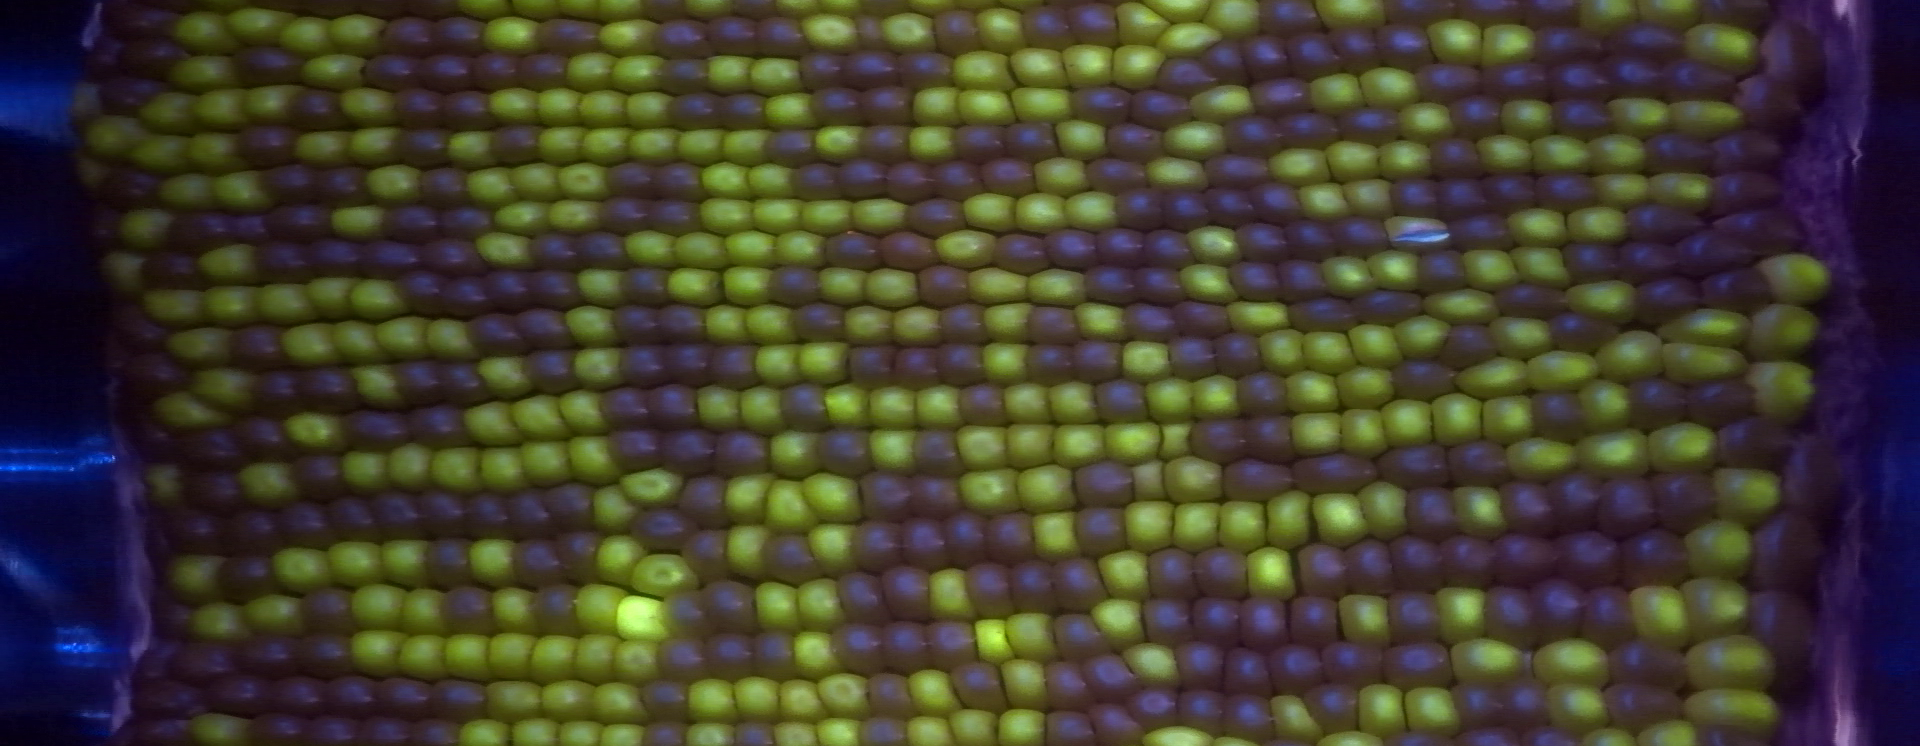fluorescent: (1689, 639, 1773, 688), (1662, 307, 1755, 350), (1685, 688, 1777, 731), (1686, 575, 1752, 633), (1309, 489, 1371, 550), (1749, 300, 1821, 353), (1681, 20, 1755, 71), (1747, 356, 1812, 413), (1709, 464, 1777, 518), (1453, 637, 1524, 687), (1632, 581, 1689, 642), (1547, 680, 1611, 733), (1665, 343, 1746, 385), (959, 468, 1029, 514), (1571, 278, 1641, 325), (1580, 431, 1651, 477), (1598, 332, 1665, 379), (1691, 522, 1755, 571), (189, 367, 263, 409), (1652, 420, 1717, 468), (1095, 549, 1153, 601), (1438, 582, 1487, 644), (1536, 637, 1607, 680), (803, 469, 862, 521), (1527, 345, 1596, 390), (1429, 391, 1482, 447), (168, 326, 230, 372), (1269, 690, 1322, 744), (1125, 499, 1176, 556), (1360, 684, 1409, 742), (631, 552, 699, 594), (572, 581, 624, 635), (1483, 393, 1536, 447), (1504, 440, 1581, 477), (1096, 593, 1146, 649), (1338, 404, 1389, 461), (751, 576, 800, 633), (1430, 21, 1489, 69), (1363, 481, 1409, 541), (523, 436, 576, 489), (348, 579, 403, 630), (800, 577, 849, 633), (245, 593, 307, 637), (1671, 97, 1738, 138), (1455, 480, 1501, 539), (467, 537, 518, 589), (795, 339, 852, 386), (1764, 256, 1831, 296), (1164, 119, 1228, 160), (1104, 423, 1164, 467), (566, 434, 616, 486), (765, 477, 816, 529), (824, 385, 874, 437), (1213, 500, 1266, 550), (1338, 590, 1389, 643), (1030, 510, 1079, 563), (1404, 688, 1458, 737), (256, 279, 313, 325), (1018, 465, 1075, 511), (1455, 356, 1521, 396), (227, 5, 290, 45), (118, 201, 171, 249), (959, 423, 1007, 477), (1249, 548, 1297, 601), (156, 169, 216, 212), (271, 546, 331, 589), (298, 54, 365, 92), (156, 390, 220, 429), (1114, 39, 1164, 89), (962, 194, 1021, 236), (1161, 461, 1220, 503), (1382, 399, 1434, 448), (1582, 380, 1631, 431), (591, 481, 639, 534), (1517, 244, 1571, 290), (1176, 497, 1217, 557), (1651, 169, 1711, 211), (173, 50, 236, 89), (934, 229, 996, 269), (190, 88, 247, 131), (1003, 653, 1046, 710), (1505, 209, 1570, 247), (617, 594, 666, 644), (350, 628, 400, 677), (465, 160, 516, 209), (479, 443, 527, 495), (738, 385, 785, 437), (1397, 314, 1450, 360), (955, 86, 1018, 125), (1284, 372, 1343, 414), (380, 535, 425, 589), (138, 86, 193, 130), (213, 165, 268, 209), (280, 320, 337, 363), (778, 674, 825, 724), (398, 636, 449, 682), (328, 540, 381, 586), (909, 668, 961, 713), (1064, 40, 1117, 86), (1128, 641, 1180, 686), (748, 56, 802, 100), (1496, 311, 1550, 355), (84, 111, 140, 154), (576, 628, 615, 688), (1427, 290, 1498, 323), (430, 443, 478, 492), (1008, 612, 1056, 661), (307, 269, 358, 316), (719, 265, 769, 311), (530, 637, 576, 688), (1291, 410, 1342, 456), (702, 196, 759, 236), (1534, 137, 1596, 175), (195, 600, 249, 643), (807, 521, 850, 575), (887, 301, 940, 344), (1322, 256, 1376, 299), (1024, 269, 1082, 309), (167, 557, 222, 599), (475, 354, 530, 396), (1183, 262, 1238, 304), (1360, 70, 1416, 111), (594, 537, 640, 586), (823, 670, 869, 719), (129, 136, 189, 174), (204, 285, 264, 323), (293, 130, 353, 168), (1161, 20, 1217, 60), (386, 443, 431, 494), (1352, 323, 1404, 366), (1330, 140, 1382, 183), (338, 86, 396, 125), (1269, 489, 1305, 550), (1569, 206, 1630, 243), (1608, 97, 1669, 134), (929, 567, 971, 621), (282, 413, 340, 451), (954, 47, 1009, 87), (993, 706, 1048, 746), (1054, 425, 1109, 465), (1466, 250, 1521, 290), (1013, 189, 1062, 234), (869, 423, 915, 472), (1123, 336, 1172, 381), (617, 470, 680, 506), (610, 638, 660, 682), (595, 680, 645, 724), (244, 463, 295, 506), (463, 401, 514, 443), (424, 314, 475, 356), (489, 631, 530, 684), (1191, 85, 1255, 119), (277, 13, 331, 54), (146, 283, 200, 323), (864, 269, 918, 310), (1373, 244, 1420, 289), (1190, 376, 1239, 420), (1053, 376, 1097, 425), (1258, 331, 1307, 375), (1149, 372, 1191, 423), (1311, 70, 1363, 111), (197, 243, 253, 281), (801, 196, 853, 236), (802, 10, 855, 50), (1054, 118, 1107, 158), (1014, 83, 1071, 120), (1272, 146, 1330, 183), (485, 680, 539, 719), (675, 230, 729, 269), (1005, 423, 1052, 468), (1004, 382, 1051, 428), (980, 7, 1029, 50), (697, 382, 740, 431), (1378, 140, 1427, 183), (1596, 134, 1644, 176), (403, 581, 444, 631), (795, 627, 835, 679), (192, 709, 249, 746), (1009, 51, 1065, 88), (1340, 370, 1396, 407), (366, 160, 419, 200), (624, 228, 677, 267), (340, 450, 386, 495), (724, 474, 769, 519), (1116, 1, 1161, 47), (1307, 327, 1352, 372), (444, 633, 487, 681), (571, 345, 618, 388), (850, 198, 904, 236), (971, 268, 1025, 306), (1480, 134, 1534, 171), (1229, 299, 1293, 331), (1060, 194, 1116, 230), (583, 122, 634, 162), (884, 11, 936, 50), (913, 383, 959, 428), (186, 125, 233, 168), (705, 303, 752, 345), (331, 13, 380, 54), (355, 364, 404, 404), (544, 195, 598, 232), (702, 160, 756, 197), (669, 269, 718, 310), (1187, 222, 1236, 262), (516, 398, 566, 437), (721, 127, 771, 167), (1036, 154, 1086, 194), (1484, 21, 1534, 60), (769, 232, 824, 267), (376, 317, 427, 355), (984, 341, 1029, 385), (733, 677, 779, 720), (753, 343, 798, 386), (536, 86, 583, 127), (1594, 170, 1651, 205), (179, 10, 227, 50), (146, 461, 185, 510), (479, 227, 529, 265), (491, 589, 533, 635), (703, 50, 748, 92), (678, 130, 725, 170), (775, 430, 816, 477), (1347, 178, 1393, 218), (819, 265, 867, 304), (1300, 181, 1348, 220), (348, 127, 397, 165), (910, 85, 959, 122), (350, 279, 404, 314), (541, 688, 595, 723), (610, 50, 660, 87), (556, 388, 599, 431), (336, 321, 380, 363), (689, 675, 733, 717), (516, 160, 560, 202), (1505, 98, 1556, 134), (726, 228, 773, 267), (869, 391, 916, 430), (569, 307, 613, 348), (749, 300, 793, 341), (334, 201, 380, 240), (765, 88, 812, 126), (984, 303, 1031, 341), (845, 306, 891, 344), (729, 524, 765, 572), (1146, 157, 1207, 185), (492, 85, 538, 122), (539, 124, 585, 160), (577, 89, 624, 125), (578, 267, 620, 307), (814, 120, 856, 160), (602, 18, 655, 50), (1398, 103, 1451, 135), (754, 198, 800, 235), (680, 718, 738, 746), (497, 200, 545, 234), (444, 130, 492, 164), (485, 17, 534, 50), (627, 130, 680, 160), (976, 617, 1011, 663), (105, 251, 140, 298), (460, 713, 508, 746), (564, 53, 613, 85), (747, 165, 792, 200), (560, 160, 602, 196), (624, 89, 672, 121), (909, 124, 951, 158), (955, 707, 992, 746), (1134, 461, 1168, 502), (562, 715, 609, 746), (909, 714, 951, 746), (598, 717, 645, 745), (247, 85, 285, 118), (509, 723, 571, 740), (1161, 420, 1191, 453)
nonfluorescent: (1749, 511, 1824, 594), (1780, 429, 1840, 519), (1756, 593, 1816, 677), (1716, 205, 1809, 254), (1491, 530, 1560, 590), (1342, 530, 1400, 601), (1602, 475, 1663, 541), (1293, 450, 1379, 496), (1762, 20, 1821, 87), (1620, 526, 1685, 584), (1662, 472, 1723, 533), (1445, 435, 1512, 490), (1380, 639, 1456, 687), (1704, 265, 1773, 317), (375, 484, 429, 550), (1712, 414, 1774, 470), (1604, 639, 1686, 682), (1629, 276, 1702, 323), (1608, 679, 1687, 723), (1391, 537, 1449, 597), (1375, 446, 1457, 488), (1708, 127, 1780, 174), (1689, 380, 1758, 428), (1554, 465, 1602, 535), (291, 364, 358, 414), (165, 501, 223, 559), (1581, 587, 1635, 648), (111, 348, 185, 392), (951, 660, 1011, 714), (1442, 532, 1496, 592), (1078, 458, 1139, 511), (202, 669, 264, 720), (1049, 610, 1112, 661), (1007, 555, 1057, 619), (440, 586, 498, 639), (167, 211, 236, 256), (1605, 20, 1679, 62), (1561, 534, 1622, 586), (236, 630, 299, 680), (170, 635, 238, 681), (1679, 225, 1750, 269), (1556, 307, 1631, 349), (219, 551, 274, 608), (1528, 390, 1584, 445), (1501, 481, 1558, 537), (767, 533, 824, 587), (877, 619, 934, 673), (1489, 584, 1534, 652), (296, 450, 350, 506), (835, 570, 889, 626), (255, 236, 316, 285), (629, 507, 696, 552), (230, 44, 298, 88), (1625, 197, 1698, 238), (1621, 236, 1689, 281), (1632, 377, 1689, 430), (1643, 134, 1714, 175), (845, 522, 904, 572), (1436, 322, 1495, 372), (964, 559, 1011, 620), (1389, 593, 1442, 647), (223, 500, 276, 555), (703, 579, 756, 635), (1199, 546, 1251, 601), (1151, 545, 1202, 601), (1291, 540, 1342, 597), (1451, 209, 1515, 255), (1494, 281, 1567, 320), (138, 247, 209, 288), (1185, 416, 1245, 464), (1714, 168, 1779, 212), (1046, 663, 1100, 715), (351, 405, 414, 451), (1673, 60, 1742, 100), (986, 508, 1035, 566), (705, 15, 764, 62), (1549, 58, 1613, 102), (1067, 85, 1131, 127), (828, 620, 880, 673), (534, 584, 584, 639), (682, 528, 732, 583), (1240, 597, 1291, 652), (1500, 673, 1550, 728), (916, 261, 972, 310), (1269, 643, 1325, 692), (1130, 85, 1193, 129), (606, 430, 664, 478), (1139, 598, 1198, 644), (913, 428, 965, 480), (298, 633, 351, 684), (1078, 508, 1131, 559), (1287, 594, 1337, 648), (658, 630, 707, 685), (1740, 78, 1795, 127), (1356, 288, 1429, 325), (1537, 586, 1584, 642), (133, 674, 191, 720), (1226, 110, 1283, 157), (235, 120, 294, 165), (806, 78, 864, 124), (264, 677, 324, 722), (703, 628, 753, 681), (413, 401, 467, 450), (549, 480, 598, 534), (639, 677, 693, 726), (598, 382, 651, 431), (1022, 336, 1076, 385), (1056, 556, 1104, 610), (1288, 292, 1356, 331), (856, 470, 911, 518), (1247, 415, 1294, 470), (944, 512, 987, 573), (1224, 458, 1287, 500), (263, 160, 322, 205), (992, 230, 1051, 274), (940, 296, 991, 348), (1308, 681, 1356, 735), (100, 305, 160, 348), (1408, 484, 1455, 539), (1391, 363, 1458, 401), (1223, 695, 1280, 740), (271, 203, 336, 243), (231, 322, 289, 366), (429, 677, 486, 722), (1615, 55, 1673, 99), (1258, 176, 1307, 228), (235, 412, 288, 459), (1566, 236, 1619, 284), (519, 305, 573, 352), (709, 345, 763, 392), (880, 228, 940, 269), (789, 303, 849, 344), (658, 431, 719, 472), (1536, 169, 1597, 209), (99, 162, 151, 209), (471, 307, 523, 355), (782, 377, 830, 429), (1333, 209, 1385, 257), (1020, 1, 1073, 48), (185, 465, 238, 512), (429, 537, 475, 589), (824, 230, 887, 269), (1482, 170, 1536, 216), (253, 364, 298, 419), (909, 477, 964, 521), (279, 506, 336, 549), (1076, 337, 1125, 386), (929, 620, 978, 669), (902, 519, 950, 570), (1287, 216, 1337, 263), (758, 12, 811, 58), (1052, 227, 1104, 272), (534, 12, 599, 49), (1485, 59, 1548, 97), (888, 565, 931, 620), (842, 50, 902, 89), (1280, 110, 1340, 149), (102, 5, 168, 40), (858, 119, 915, 160), (1213, 327, 1262, 375), (1319, 641, 1382, 677), (1336, 105, 1400, 142), (467, 47, 518, 92), (753, 628, 798, 680), (680, 474, 725, 526), (649, 387, 700, 432), (887, 159, 938, 205), (377, 17, 435, 58), (519, 350, 577, 391), (1087, 157, 1149, 195), (1097, 379, 1150, 423), (1224, 643, 1269, 696), (464, 485, 507, 539), (1209, 38, 1251, 92), (950, 121, 1009, 160), (1003, 121, 1062, 160), (1555, 98, 1614, 137), (553, 534, 601, 582), (304, 586, 351, 633), (327, 492, 376, 539), (513, 539, 560, 588), (722, 428, 769, 477), (938, 341, 984, 390), (1288, 34, 1344, 75), (435, 12, 485, 58), (507, 485, 551, 537), (1417, 250, 1468, 294), (377, 674, 430, 717), (909, 196, 966, 235), (595, 197, 649, 239), (1107, 120, 1162, 160), (359, 240, 421, 276), (667, 89, 718, 134), (122, 408, 167, 458), (852, 338, 895, 390), (1375, 24, 1427, 67), (1281, 265, 1332, 307), (328, 677, 381, 719), (902, 51, 960, 89), (1085, 265, 1142, 303), (1416, 64, 1484, 96), (121, 40, 182, 76), (99, 76, 160, 111), (658, 298, 704, 344), (396, 356, 443, 402), (1195, 597, 1240, 644), (1177, 641, 1222, 688), (1455, 682, 1502, 728), (1073, 2, 1122, 47), (400, 268, 444, 317), (438, 356, 482, 405), (662, 595, 711, 639), (1116, 187, 1164, 232), (867, 673, 916, 717), (421, 51, 471, 94), (936, 4, 978, 54), (615, 344, 665, 387), (984, 156, 1035, 198), (1093, 699, 1145, 741), (836, 160, 893, 198), (605, 158, 658, 198), (1248, 24, 1287, 78), (613, 303, 660, 348), (961, 381, 1007, 428), (1177, 687, 1223, 733), (798, 42, 842, 89), (435, 273, 484, 316), (1236, 374, 1284, 416), (651, 162, 707, 200), (322, 165, 372, 207), (443, 89, 493, 131), (534, 232, 584, 273), (421, 235, 478, 272), (715, 93, 771, 130), (1536, 26, 1600, 58), (421, 486, 460, 539), (1124, 301, 1177, 341), (1040, 707, 1092, 746), (487, 265, 533, 310), (823, 429, 868, 474), (1164, 186, 1211, 230), (293, 88, 340, 131), (1240, 224, 1289, 266), (1341, 29, 1382, 78), (647, 200, 705, 234), (891, 345, 937, 390), (1211, 183, 1258, 225), (660, 16, 708, 58), (175, 432, 235, 465), (397, 126, 446, 167), (622, 262, 671, 303), (661, 345, 710, 386), (1393, 175, 1442, 216), (1431, 136, 1480, 176), (1453, 94, 1504, 134), (91, 198, 126, 254), (1234, 258, 1278, 303), (493, 122, 540, 164), (1142, 232, 1195, 268), (1179, 299, 1227, 339), (531, 269, 585, 305), (661, 56, 713, 93), (863, 87, 915, 124), (1169, 336, 1213, 379), (1138, 263, 1184, 304), (418, 167, 465, 206), (1259, 1, 1322, 31), (936, 160, 984, 198), (362, 58, 416, 92), (309, 238, 359, 274), (770, 269, 820, 306), (1255, 78, 1310, 111), (765, 122, 813, 160), (789, 160, 836, 198), (520, 53, 568, 89), (1030, 304, 1078, 341), (1102, 230, 1146, 269), (1206, 152, 1267, 180), (384, 202, 435, 236), (580, 233, 631, 267), (1157, 58, 1211, 89), (396, 85, 443, 120), (1446, 178, 1488, 218), (1089, 657, 1131, 695), (1136, 684, 1177, 723), (860, 713, 906, 746), (435, 205, 490, 232), (87, 36, 122, 76), (852, 11, 883, 55), (238, 216, 271, 243)
